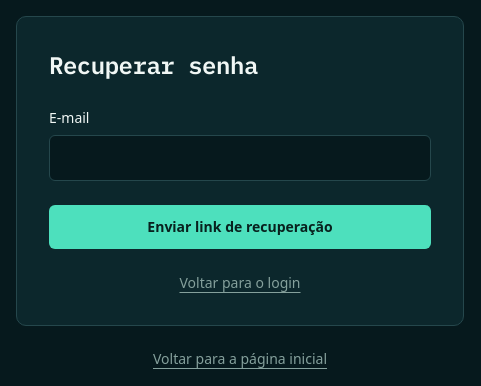
Test: ForgotPassword › requests a recovery link through Supabase with a locale-aware redirect
In the field labelled "E-mail": (240, 158) [49, 135, 431, 181], type "a@b.dev"
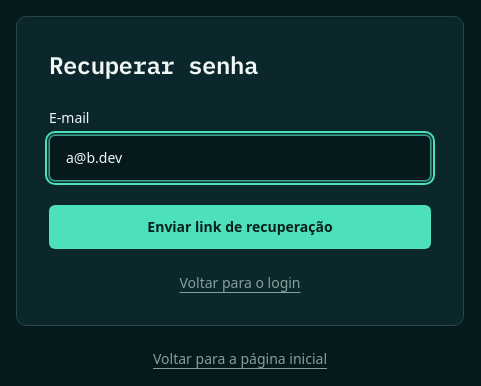
Click the button "Enviar link de recuperação": (240, 227) [49, 205, 431, 249]
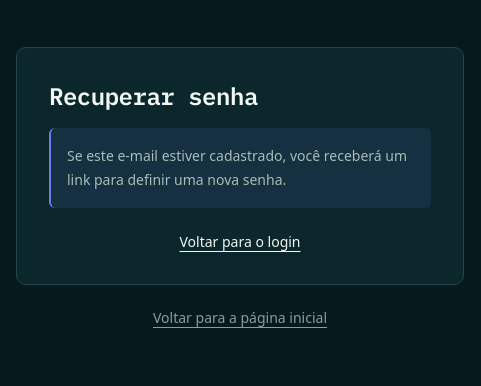
Check: the text "Se este e-mail estiver cadastrado" is shown, box [67, 146, 407, 189]
